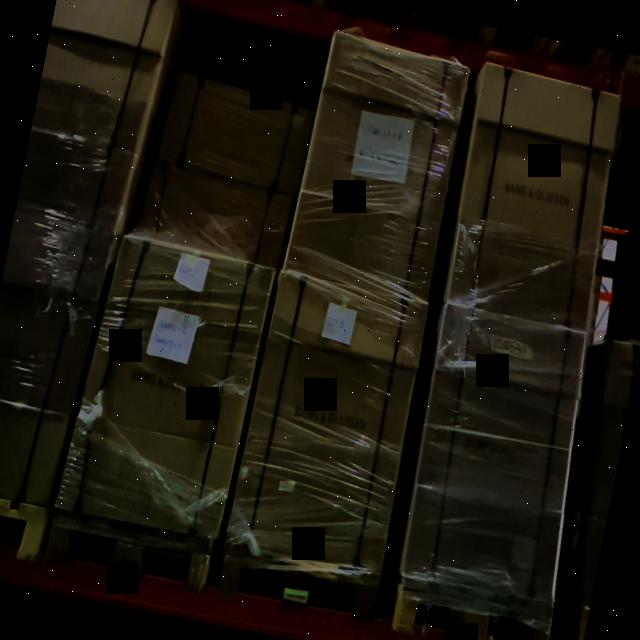box: (396, 312, 602, 602), (232, 276, 432, 566), (76, 244, 270, 522), (441, 72, 631, 326), (287, 37, 462, 278), (158, 72, 307, 195), (136, 166, 294, 270)
